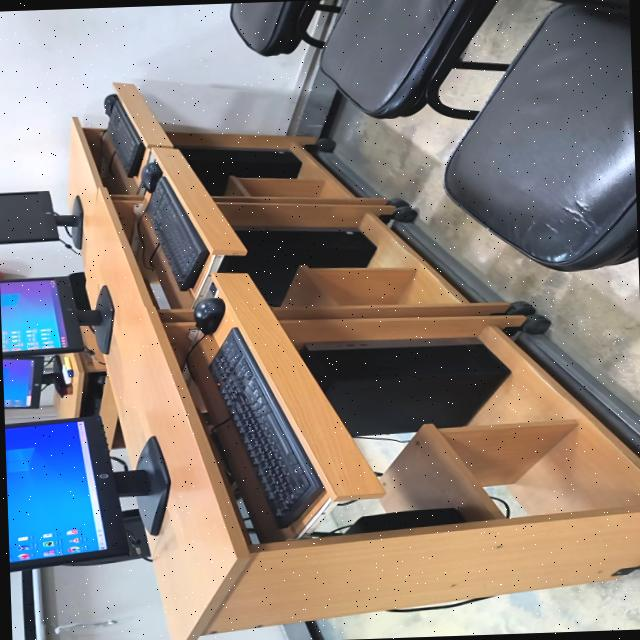Chair: (443, 4, 638, 271), (320, 0, 506, 119), (229, 0, 340, 56)
Cpu: (298, 338, 507, 435), (218, 230, 374, 306), (177, 147, 300, 194)
Keyboard: (209, 328, 323, 526), (144, 177, 207, 291), (103, 94, 143, 177)
Monitor: (3, 416, 167, 571), (0, 277, 112, 358), (0, 191, 82, 249), (1, 357, 60, 409)
Mouse: (193, 298, 223, 335), (139, 162, 161, 193), (102, 94, 117, 116)
